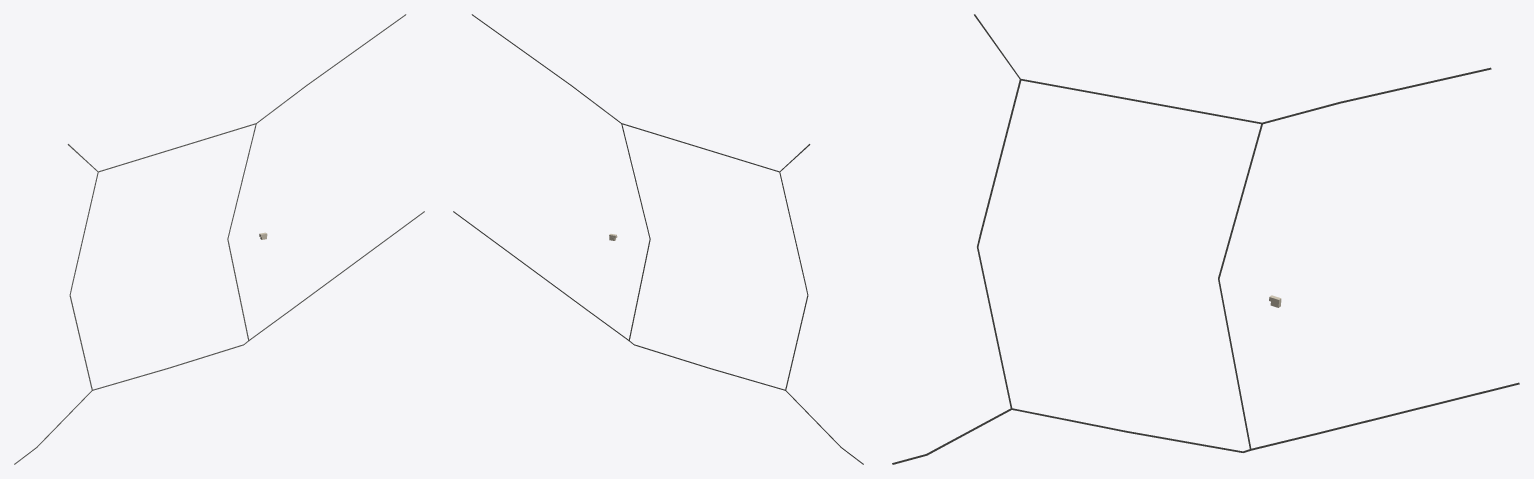
The model's file is historic-palestine-09_35_3513_3299.glb.
3 renders of one model, left to right at view 1: azimuth 30°, elevation 25°; view 2: azimuth 150°, elevation 25°; view 3: azimuth 330°, elevation 25°, orthographic. The views are drawn at different scales.
Parts seen in each view (by area): view 1: Road, Road .001; view 2: Road, Road .001; view 3: Road, Road .001, Road .003, Road .002.
Part boxes in pixels (x1,y1,x2,y2): Road: [14, 211, 424, 464]; Road .001: [67, 14, 406, 172]; Road: [453, 211, 863, 464]; Road .001: [471, 14, 810, 172]; Road: [892, 382, 1519, 464]; Road .001: [974, 14, 1491, 124]; Road .003: [977, 79, 1021, 408]; Road .002: [1218, 124, 1262, 449].
Bounding box in the file's own units: 1155 × 955 × 8.7.
